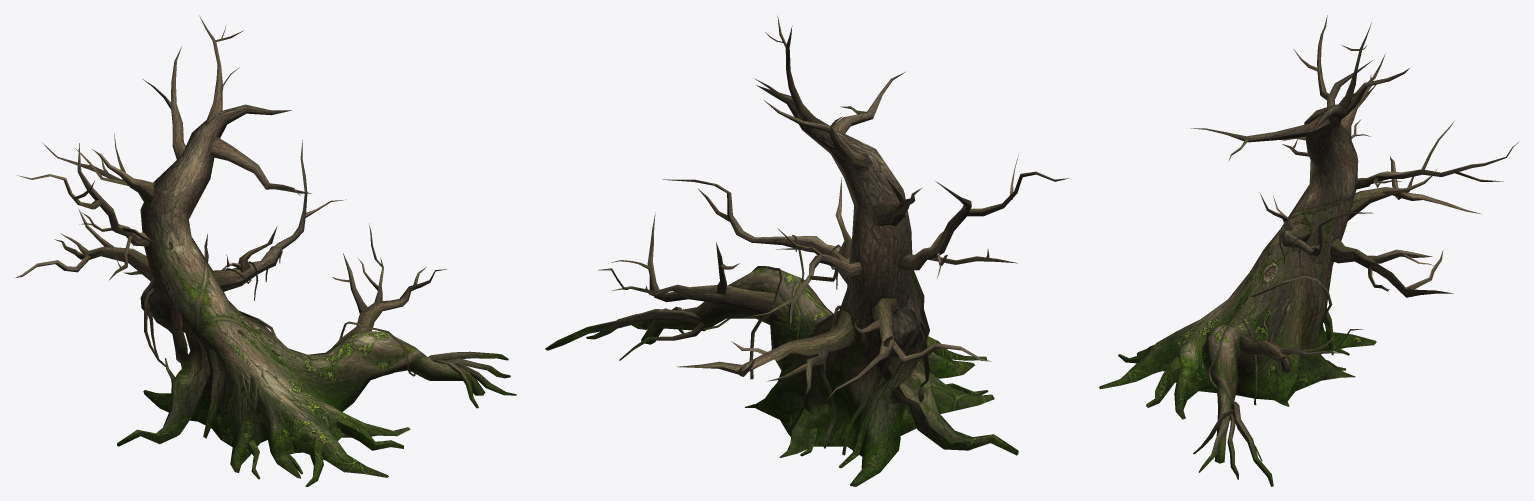
The model's file is xl_shu_4.FBX.
The picture shows the model from 3 angles, left to right: view 1: azimuth 30°, elevation 25°; view 2: azimuth 150°, elevation 25°; view 3: azimuth 270°, elevation 25°; orthographic projection. The views are drawn at different scales.
Parts seen in each view (by area): view 1: xl_shu_4; view 2: xl_shu_4; view 3: xl_shu_4.
Boxes of the visible parts, <box> form: xl_shu_4: <box>14,15,516,486</box>; xl_shu_4: <box>545,16,1068,486</box>; xl_shu_4: <box>1099,15,1519,486</box>.
Size of the model in its own units: 10217 by 7834 by 8528.
